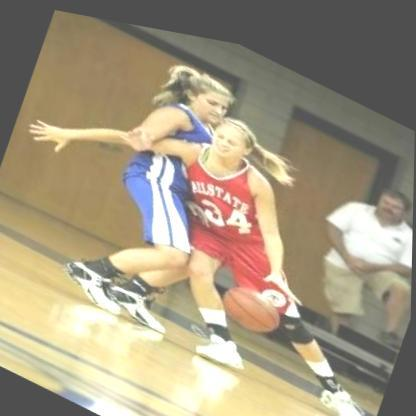basketball: (213, 262, 290, 339)
